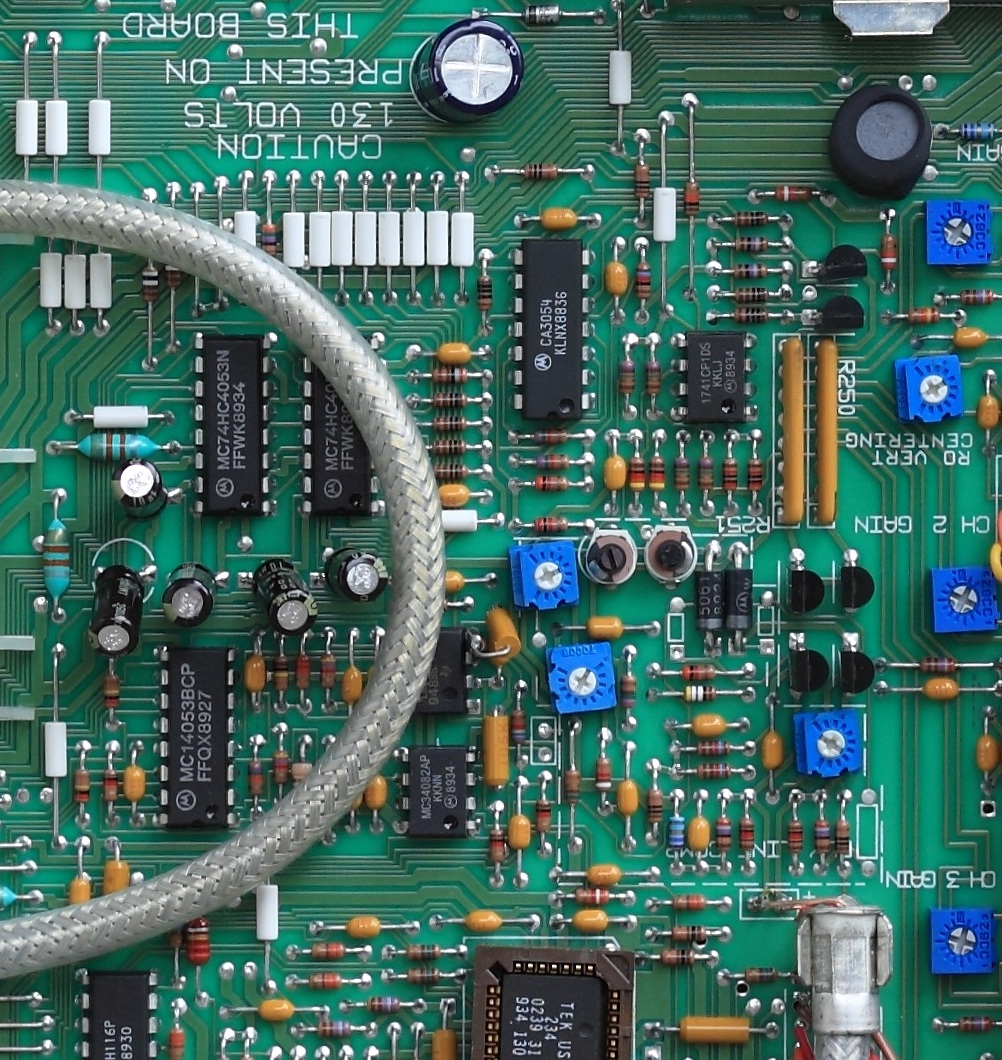Capacitor: (409, 16, 526, 123), (248, 556, 321, 637), (87, 563, 146, 658), (159, 559, 225, 632), (109, 456, 172, 528), (321, 544, 392, 605)
Diode: (723, 562, 757, 641), (691, 561, 724, 639), (518, 2, 567, 26)
Resistor: (37, 513, 76, 608), (64, 431, 167, 463), (185, 912, 213, 973), (830, 810, 857, 863), (909, 653, 966, 677), (781, 811, 807, 862), (291, 646, 315, 700), (765, 181, 817, 205), (270, 648, 294, 700), (665, 889, 711, 916), (808, 814, 833, 863), (734, 809, 758, 859), (951, 285, 1001, 309), (241, 754, 266, 802), (506, 703, 531, 750), (899, 304, 944, 330), (627, 446, 647, 504), (738, 962, 782, 988), (950, 1012, 1002, 1034), (726, 283, 773, 307), (615, 354, 639, 401), (615, 671, 640, 716), (641, 353, 664, 401), (427, 363, 473, 387), (561, 763, 584, 811), (567, 884, 615, 907), (877, 228, 900, 276), (590, 753, 615, 797), (138, 260, 161, 307), (472, 272, 496, 317), (101, 669, 124, 715), (528, 474, 576, 496), (307, 938, 351, 962), (665, 811, 687, 859), (269, 742, 291, 790), (695, 450, 716, 500), (681, 175, 704, 220), (527, 514, 574, 536), (424, 436, 471, 458), (485, 825, 509, 868), (646, 450, 667, 499), (516, 161, 567, 181), (670, 452, 692, 498), (643, 783, 666, 827), (426, 389, 474, 410), (100, 761, 121, 809), (425, 462, 478, 481), (713, 813, 735, 858), (744, 453, 765, 500), (425, 413, 472, 434), (952, 120, 999, 141), (316, 650, 338, 694), (726, 210, 772, 231), (313, 1017, 355, 1040), (164, 1020, 188, 1060), (654, 948, 704, 967), (690, 738, 735, 759), (666, 924, 713, 944), (728, 261, 772, 282), (632, 258, 653, 302), (531, 452, 575, 473), (532, 794, 553, 838), (719, 452, 739, 498), (71, 764, 91, 810), (363, 994, 403, 1017), (676, 663, 722, 683), (726, 235, 774, 254), (692, 760, 735, 781), (400, 943, 445, 963), (677, 684, 722, 704), (632, 157, 651, 203), (528, 427, 574, 446), (727, 307, 771, 326), (304, 970, 345, 990), (291, 757, 313, 793), (163, 256, 184, 292), (261, 218, 278, 261), (402, 967, 444, 983)
